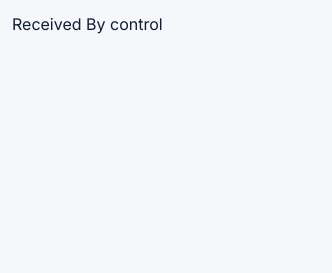
LockedTip accessibility — ARIA tooltip pattern for every LOCKED_FIELD › [{"field":"Received By","note":"Receiver name is locked together with the rest of the metadata until the cash-invariant block clears."}] focus opens tooltip, ar
Keyboard focus opens the tooltip (no pointer events needed).
Focus the element showing "Received By control" at (87, 24), box [12,12,163,36]
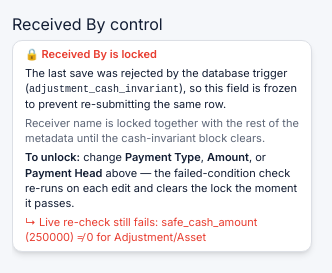
Expected: the text "adjustment_cash_invariant" is shown, [29,84,179,95]
Expected: the text "Receiver name is locked together with the rest of the metadata until the cash-invariant block clears." is shown, [25,116,299,145]
Expected: the text "To unlock:" is shown, [25,150,80,164]
Blurring the trigger dismisses the tooltip (Radix default).
Leave the element showing "Received By control", box [12,12,163,36]
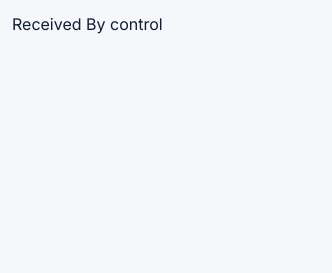
Expected: the tooltip "🔒 Received By is locked The last save was rejected by the database trigger (adj" is gone
Focus the element showing "Received By control" at (87, 24), box [12,12,163,36]
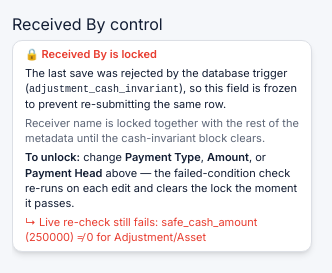
Expected: the tooltip is shown
Press Escape in the element showing "Received By control", box [12,12,163,36]
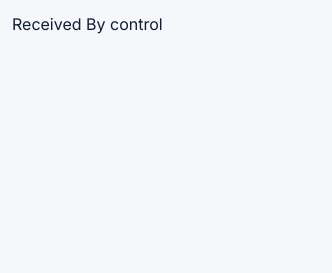
Expected: the tooltip "🔒 Received By is locked The last save was rejected by the database trigger (adj" is gone
